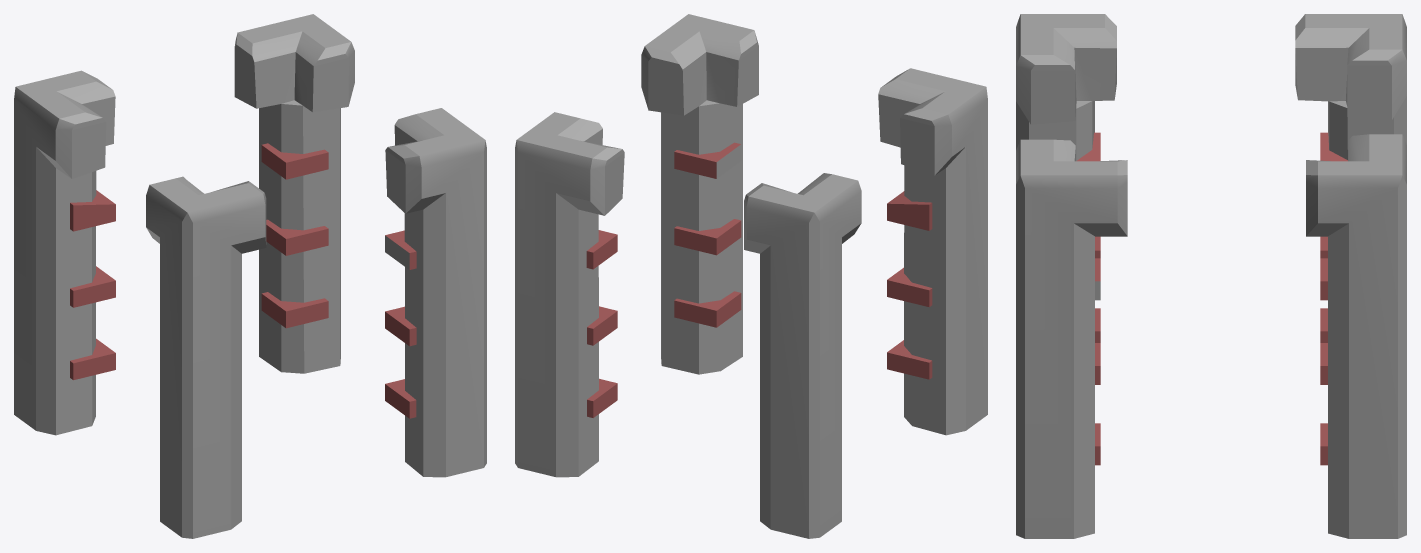
File: SM_LiftLevel.fbx
3 views of the same model, side by side, from view 1: azimuth 30°, elevation 25°; view 2: azimuth 150°, elevation 25°; view 3: azimuth 270°, elevation 25° (orthographic). The views are drawn at different scales.
Visible parts, largest first — view 1: LiftLevel; view 2: LiftLevel; view 3: LiftLevel.
Boxes of the visible parts, x1,y1,x2,y2 form: LiftLevel: (14, 14, 486, 538); LiftLevel: (515, 14, 987, 538); LiftLevel: (1016, 14, 1406, 538).
Bounding box in the file's own units: 100 × 102 × 100.
